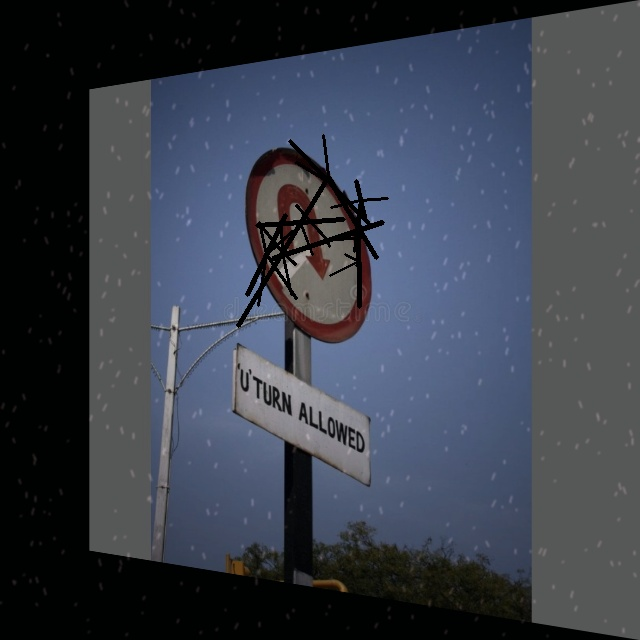U_Turn_Ahead: (237, 129, 382, 335)
